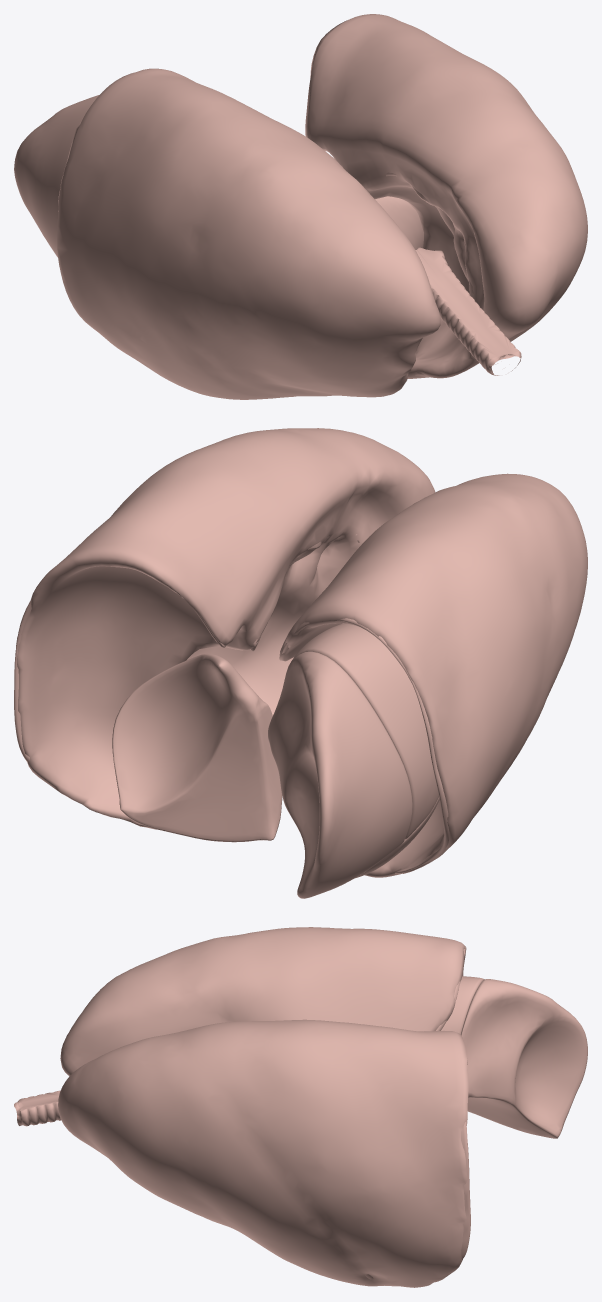
The model's file is thorax__organs.6eaf0a3599.glb.
3 views of the same model, one above another, from view 1: azimuth 30°, elevation 25°; view 2: azimuth 150°, elevation 25°; view 3: azimuth 270°, elevation 25° (orthographic). The views are drawn at different scales.
Parts seen in each view (by area): view 1: Pleura, Anterior lateral segment of liver (VI), Trachea, Left posterior lateral segment of liver (II); view 2: Pleura, Left posterior lateral segment of liver (II), Anterior lateral segment of liver (VI), Posterior lateral segment of liver (VII), Inferior lobe of right lung, Inferior lobe of left lung; view 3: Pleura, Anterior lateral segment of liver (VI), Trachea, Posterior lateral segment of liver (VII), Inferior lobe of left lung.
Boxes of the visible parts, <box> form: Pleura: <box>57,14,587,399</box>; Anterior lateral segment of liver (VI): <box>14,95,99,257</box>; Trachea: <box>415,247,521,375</box>; Left posterior lateral segment of liver (II): <box>375,196,423,249</box>; Pleura: <box>16,428,587,877</box>; Left posterior lateral segment of liver (II): <box>112,653,282,842</box>; Anterior lateral segment of liver (VI): <box>268,651,412,898</box>; Posterior lateral segment of liver (VII): <box>275,623,438,839</box>; Inferior lobe of right lung: <box>282,618,449,873</box>; Inferior lobe of left lung: <box>14,541,323,762</box>; Pleura: <box>58,927,468,1287</box>; Anterior lateral segment of liver (VI): <box>461,979,587,1138</box>; Trachea: <box>14,1090,60,1126</box>; Posterior lateral segment of liver (VII): <box>441,976,484,1034</box>; Inferior lobe of left lung: <box>461,1121,470,1259</box>.
Bounding box in the file's own units: 255 × 182 × 357.
